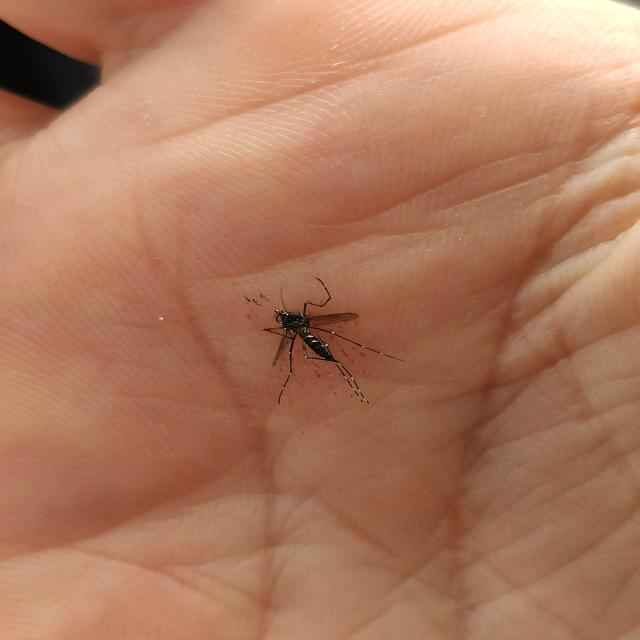albopictus: (243, 273, 404, 411)
